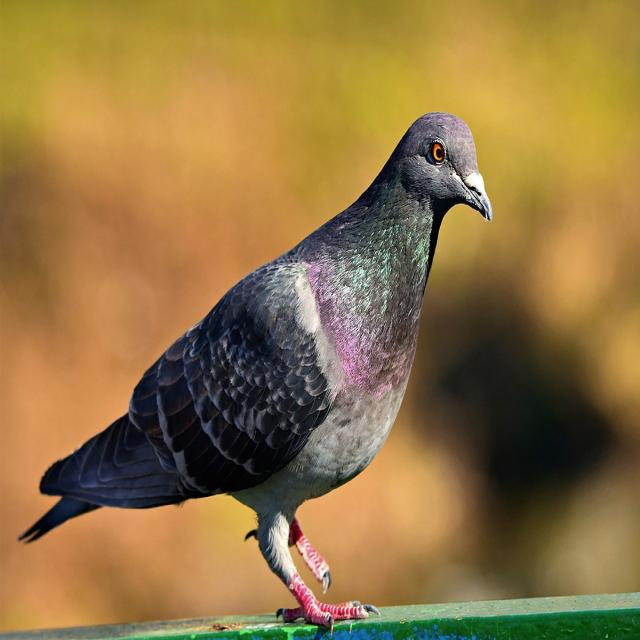pigeon: (22, 113, 493, 624)
